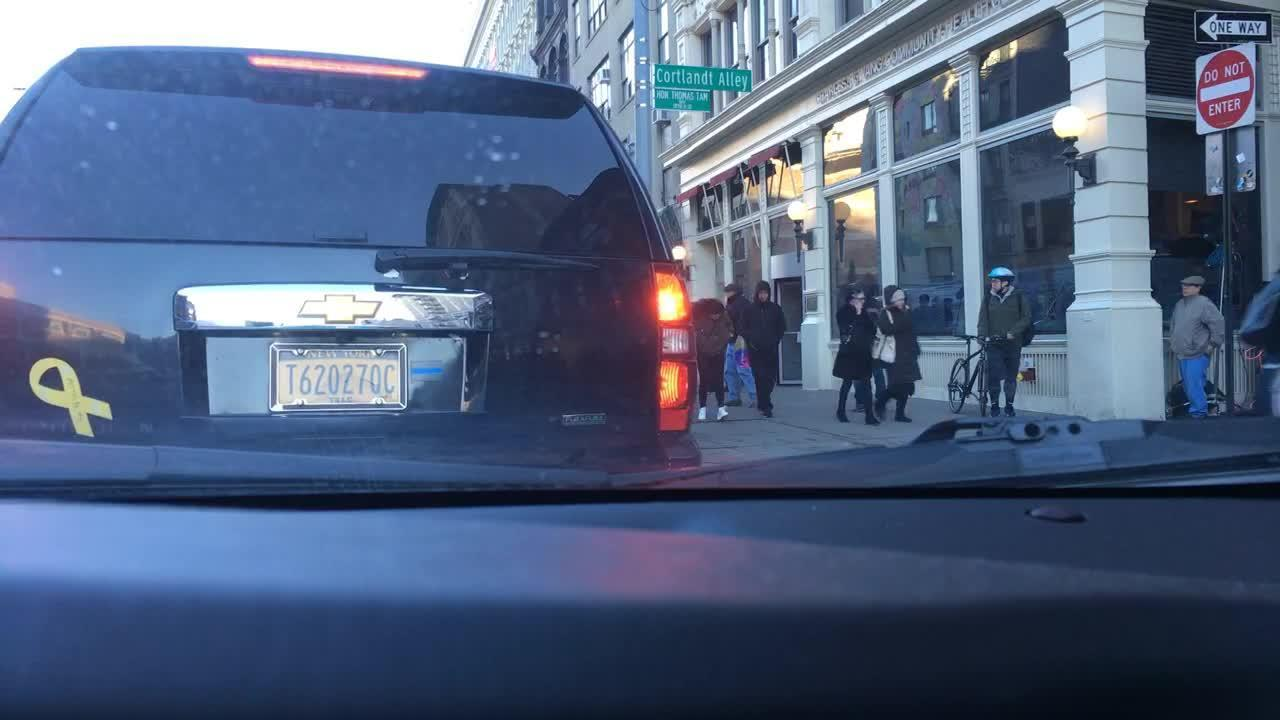chevrolet: (294, 289, 382, 330)
